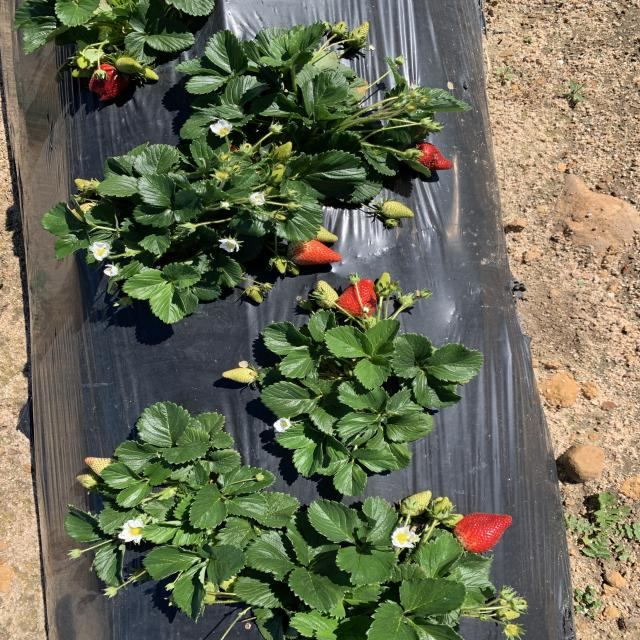unripe: (451, 509, 515, 554), (335, 278, 385, 320), (396, 143, 458, 174), (88, 61, 125, 106), (290, 240, 344, 267)
